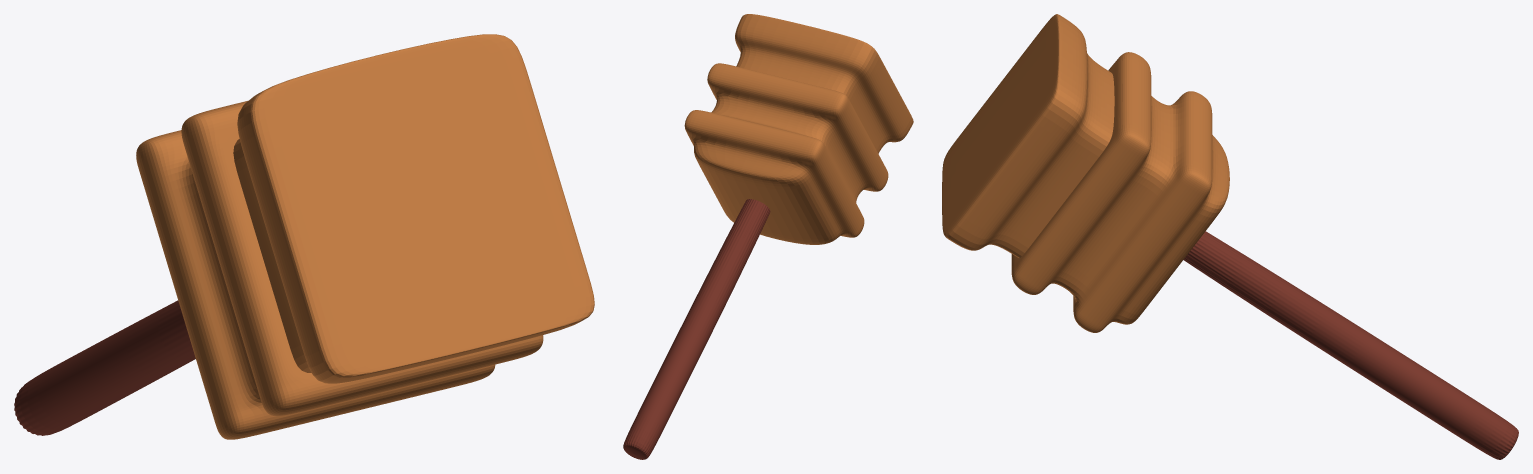
File: miel.fbx
3 views of the same model, side by side, from view 1: azimuth 30°, elevation 25°; view 2: azimuth 150°, elevation 25°; view 3: azimuth 270°, elevation 25° (orthographic). The views are drawn at different scales.
Parts seen in each view (by area): view 1: Cube; view 2: Cube; view 3: Cube.
Part boxes in pixels (x1,y1,x2,y2): Cube: (14, 34, 594, 439); Cube: (623, 14, 913, 459); Cube: (942, 14, 1518, 459).
Size of the model in its own units: 38.84 by 85.24 by 109.
